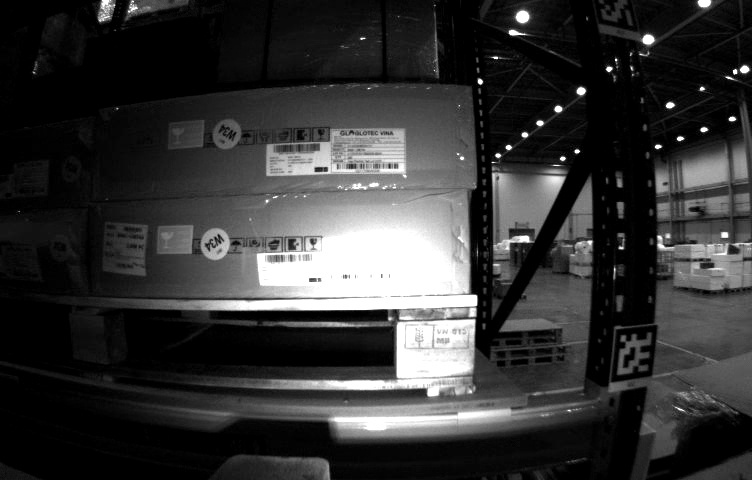True Barcode: (103, 224, 153, 279)
